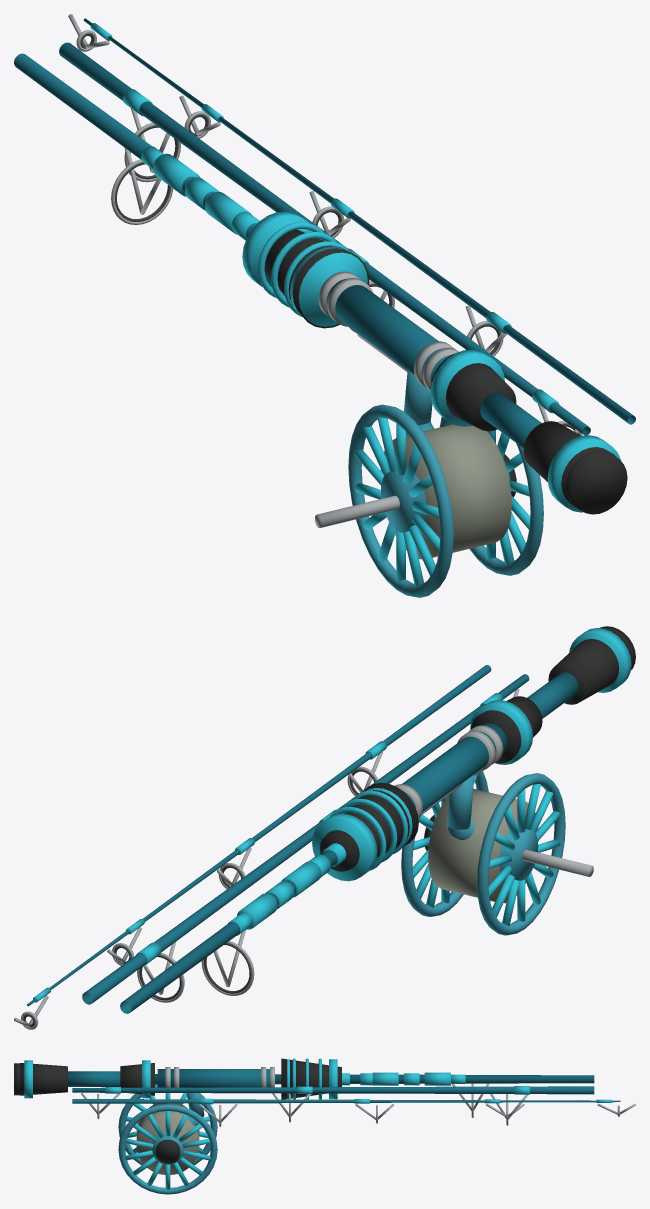
The model's file is kingfisher_fly_folded.glb.
3 views of the same model, one above another, from view 1: azimuth 30°, elevation 25°; view 2: azimuth 150°, elevation 25°; view 3: azimuth 270°, elevation 25° (orthographic). The views are drawn at different scales.
Visible parts, largest first — view 1: Folded rod; view 2: Folded rod; view 3: Folded rod.
Part boxes in pixels (x1=…): Folded rod: x1=14, y1=14, x2=635, y2=597; Folded rod: x1=14, y1=626, x2=635, y2=1029; Folded rod: x1=14, y1=1058, x2=635, y2=1194.
Bounding box in the file's own units: 0.1577 × 0.156 × 0.7147.
